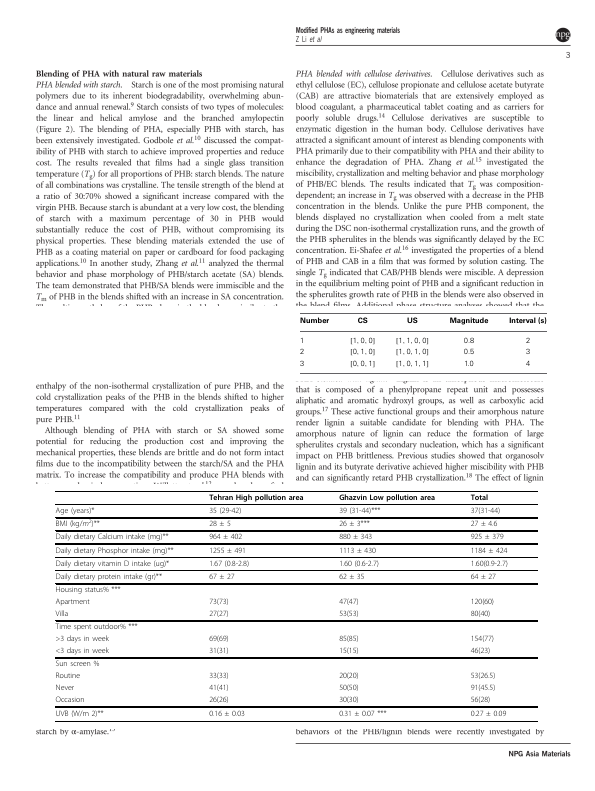borderless: (54, 489, 538, 721), (299, 311, 547, 373)
cell: (55, 546, 175, 555), (55, 572, 163, 582), (55, 533, 170, 542), (55, 559, 170, 568), (338, 493, 436, 502), (208, 493, 304, 502), (55, 623, 138, 632), (55, 585, 121, 595), (55, 646, 110, 656), (54, 518, 101, 529), (55, 635, 110, 644), (55, 709, 104, 718), (338, 709, 387, 718), (338, 506, 381, 516), (54, 506, 95, 516), (55, 660, 100, 669), (208, 559, 250, 568), (338, 559, 380, 568), (448, 317, 489, 326), (55, 597, 91, 607), (208, 546, 247, 555), (338, 546, 377, 555), (470, 559, 509, 568), (508, 317, 547, 326), (470, 546, 508, 555), (208, 709, 246, 718), (208, 506, 242, 516), (470, 709, 507, 718), (338, 519, 371, 529), (208, 533, 243, 542), (338, 533, 373, 542), (470, 533, 505, 542), (394, 336, 429, 345), (394, 359, 429, 368), (470, 506, 501, 516), (298, 317, 330, 326), (470, 519, 498, 529), (394, 348, 429, 356), (208, 572, 235, 582), (338, 572, 365, 582), (470, 572, 497, 582), (55, 696, 85, 705), (470, 597, 495, 607), (349, 336, 376, 345), (349, 359, 376, 368), (208, 519, 232, 529), (55, 672, 81, 681), (470, 672, 496, 681), (470, 684, 496, 693), (470, 635, 495, 644), (208, 597, 230, 607), (208, 609, 230, 619), (208, 646, 230, 656), (349, 348, 376, 356), (338, 597, 359, 607), (338, 609, 359, 619), (470, 609, 491, 619), (338, 646, 359, 656), (470, 646, 491, 656), (208, 635, 230, 644), (208, 672, 230, 681), (208, 684, 230, 693), (208, 696, 230, 705), (338, 635, 359, 644), (338, 672, 359, 681), (338, 684, 359, 693), (338, 696, 359, 705), (470, 696, 491, 705), (55, 684, 75, 693), (470, 493, 489, 502), (55, 609, 69, 619), (405, 317, 418, 326), (356, 317, 368, 326), (462, 336, 475, 344), (462, 348, 475, 355), (463, 359, 474, 367), (298, 336, 305, 344), (524, 336, 530, 344), (299, 359, 305, 367), (524, 359, 530, 367), (299, 348, 305, 355), (524, 348, 530, 355)
